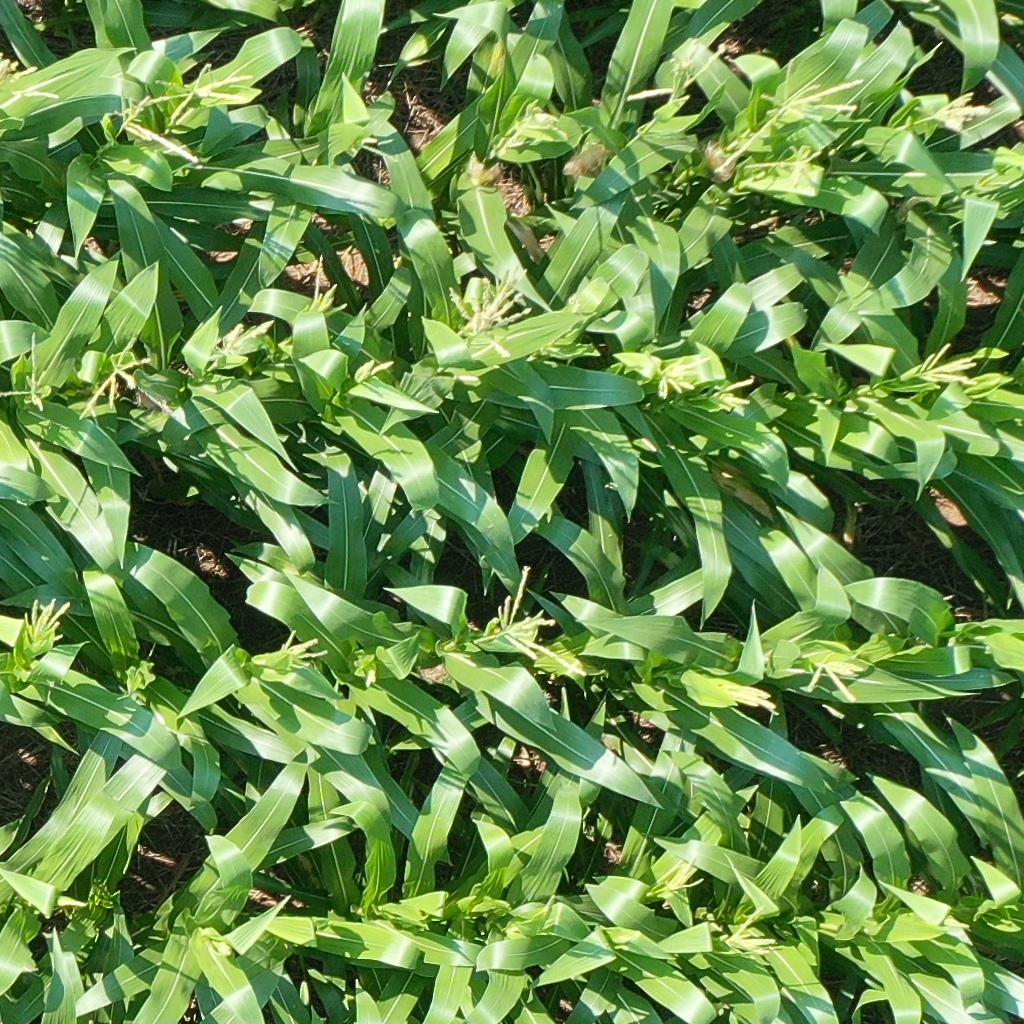Tassel: (469, 563, 595, 677), (446, 262, 533, 359), (754, 56, 868, 126), (622, 36, 727, 107), (74, 336, 154, 424), (143, 60, 251, 122), (113, 92, 203, 166), (794, 642, 869, 708), (188, 319, 272, 369), (1, 330, 49, 413), (909, 340, 984, 392), (297, 254, 349, 324), (646, 351, 715, 403), (745, 144, 826, 187), (1, 51, 61, 104), (722, 906, 779, 957), (645, 853, 706, 900), (23, 596, 75, 647), (929, 91, 992, 133), (718, 679, 785, 715), (277, 627, 328, 670), (713, 376, 764, 418), (515, 98, 563, 137), (346, 131, 402, 163), (352, 356, 396, 390), (940, 917, 972, 930), (363, 661, 379, 687), (568, 293, 584, 316), (213, 941, 232, 956)
